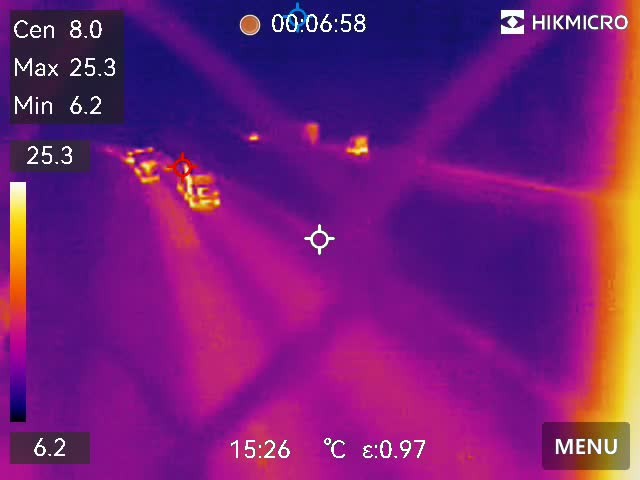heavyTruck: (170, 163, 224, 211), (131, 146, 165, 190)
